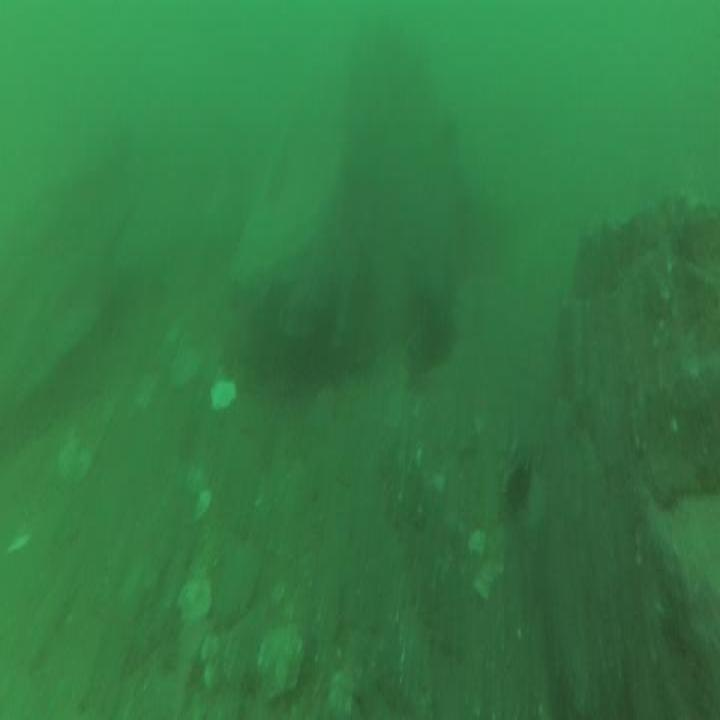echinus: (421, 299, 460, 377), (505, 457, 531, 521)
scallop: (257, 622, 307, 700), (179, 562, 213, 629), (169, 340, 200, 396), (210, 374, 240, 420)
